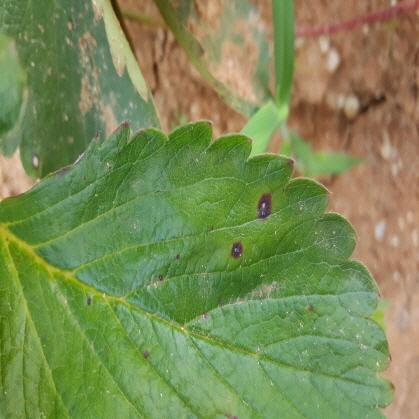Leaf Spot: (0, 119, 396, 418), (0, 0, 164, 179)
